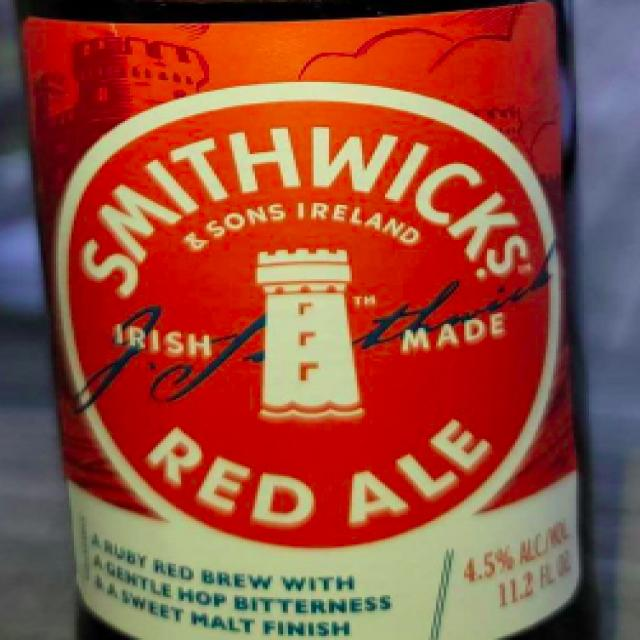Smithwick-s RED: (2, 2, 640, 640)
